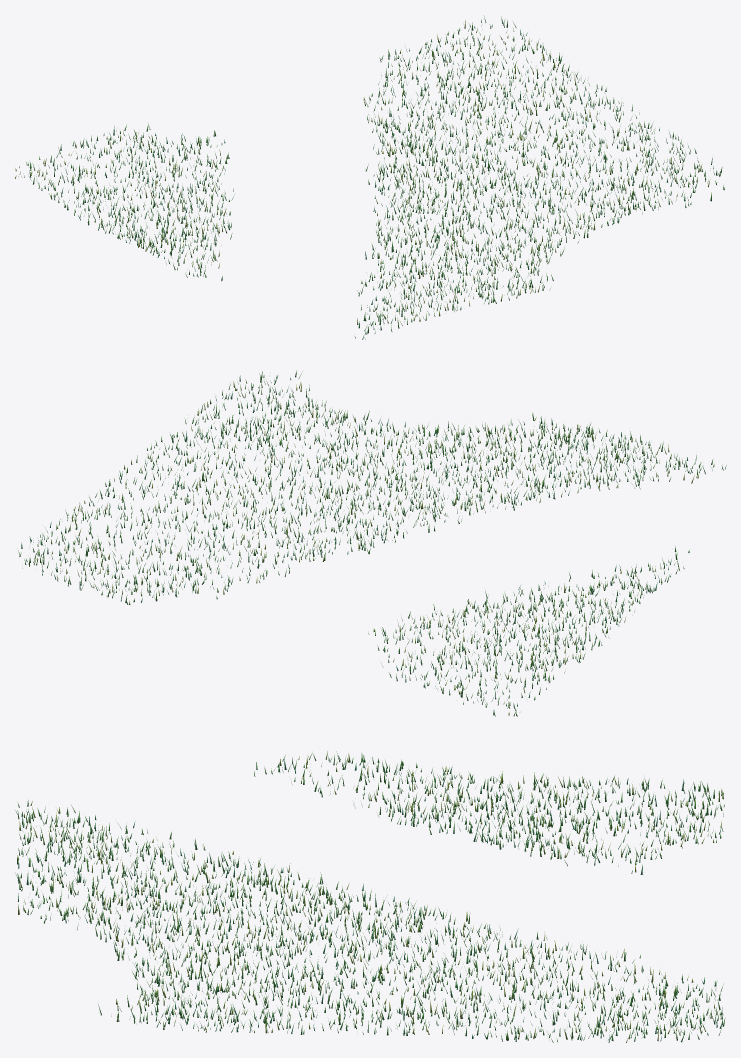
The picture shows the model from 3 angles, top to bottom: view 1: azimuth 30°, elevation 25°; view 2: azimuth 150°, elevation 25°; view 3: azimuth 270°, elevation 25°; orthographic projection. The views are drawn at different scales.
Visible parts, largest first — view 1: gc_45; view 2: gc_45; view 3: gc_45.
Part boxes in pixels (bbox=[...]): gc_45: bbox=[15, 15, 724, 339]; gc_45: bbox=[18, 370, 726, 716]; gc_45: bbox=[15, 751, 725, 1042].
Size of the model in its own units: 18.14 by 1.85 by 18.17.
1 material, 1 textured.
